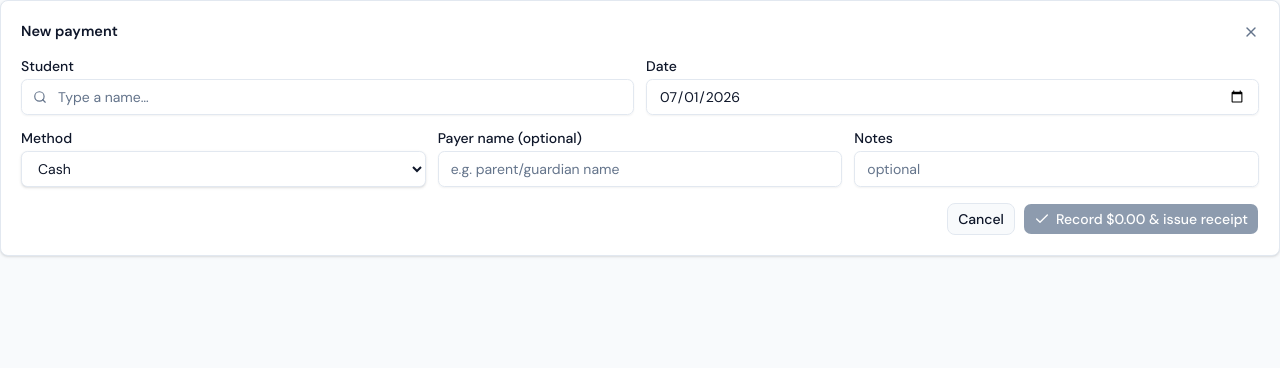
Test: NewPaymentForm — quick-add student › successful quick-add picks the new student into the form
In the field labelled "Student": (328, 97) x1=21 y1=79 x2=634 y2=115, type "Brand"
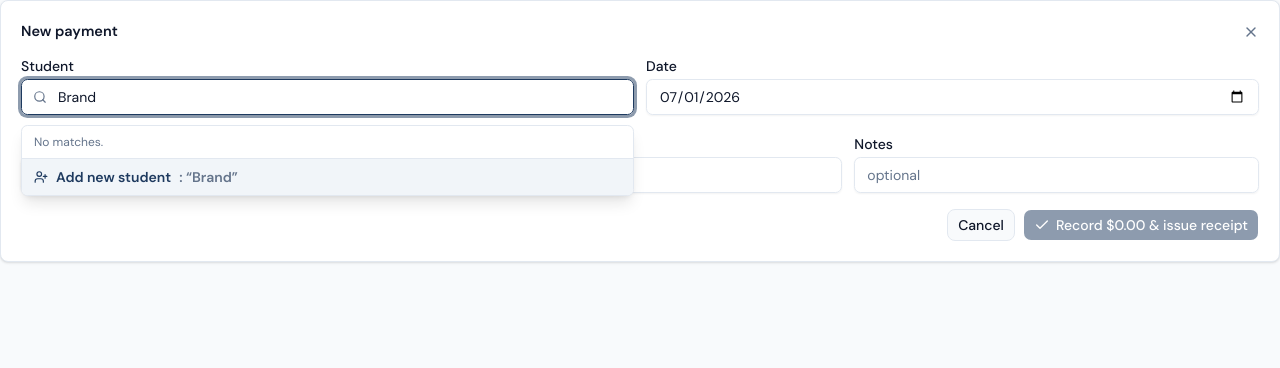
Click the button "Add new student : “Brand”": click(114, 177) x1=22 y1=159 x2=633 y2=195
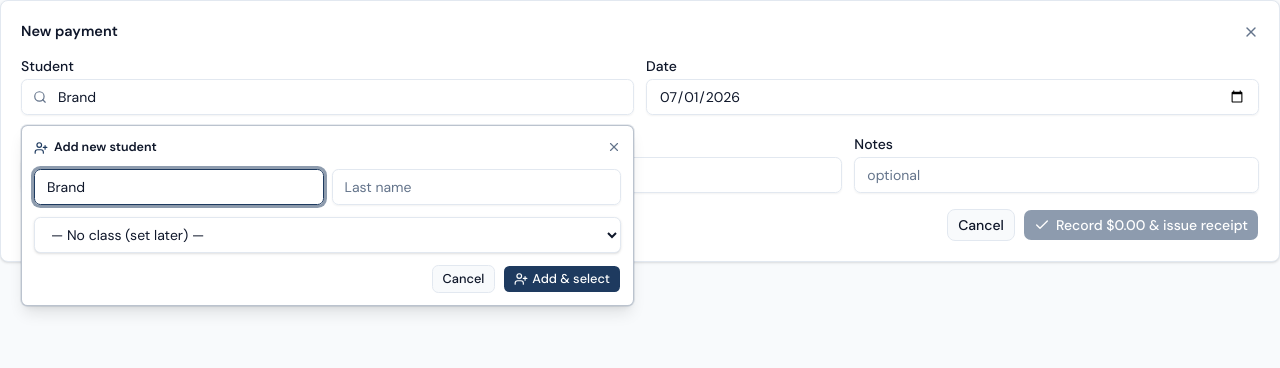
In the field with placeholder "Last name": (476, 186) x1=332 y1=168 x2=621 y2=204, type "New"
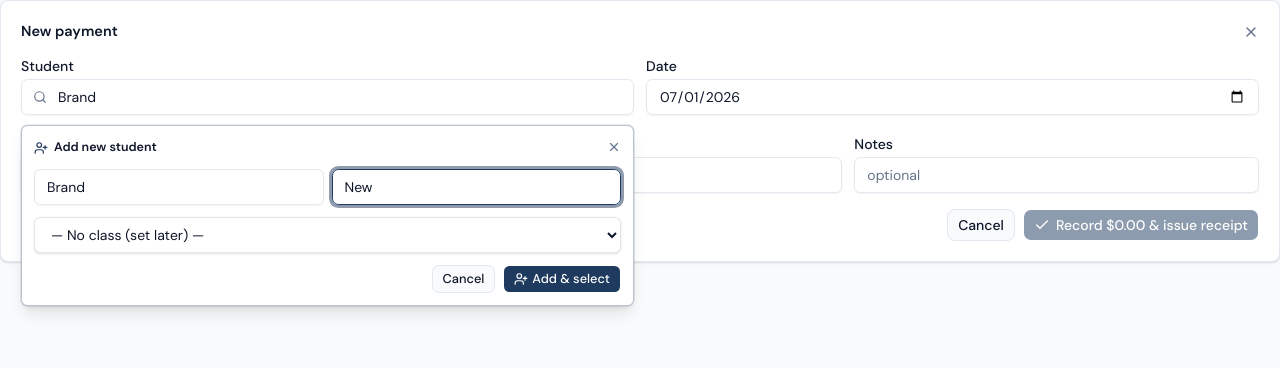
Click the button "Add & select": click(562, 278) x1=503 y1=264 x2=621 y2=292
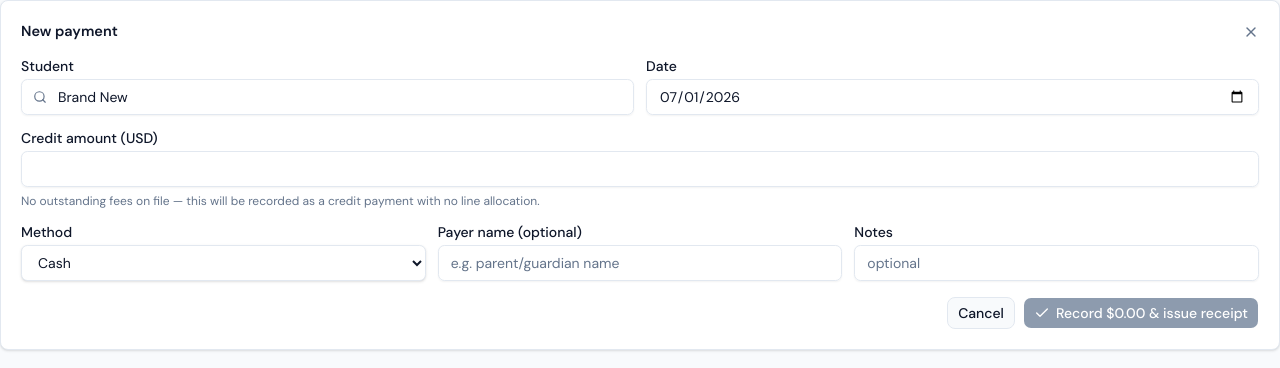
Check: the field labelled "Student" holds "Brand New", box x1=21 y1=79 x2=634 y2=115
